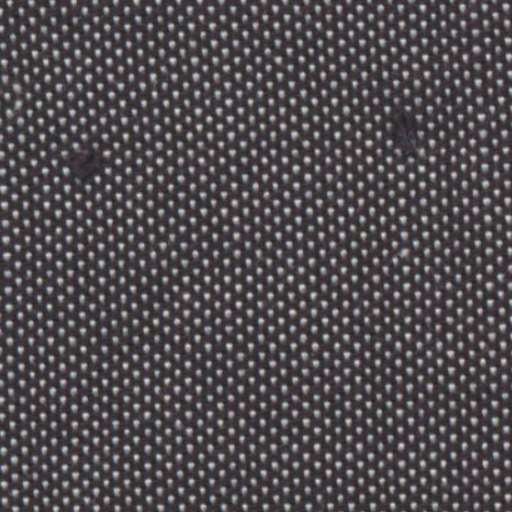MianQiu: (49, 130, 120, 190), (385, 103, 434, 162)
